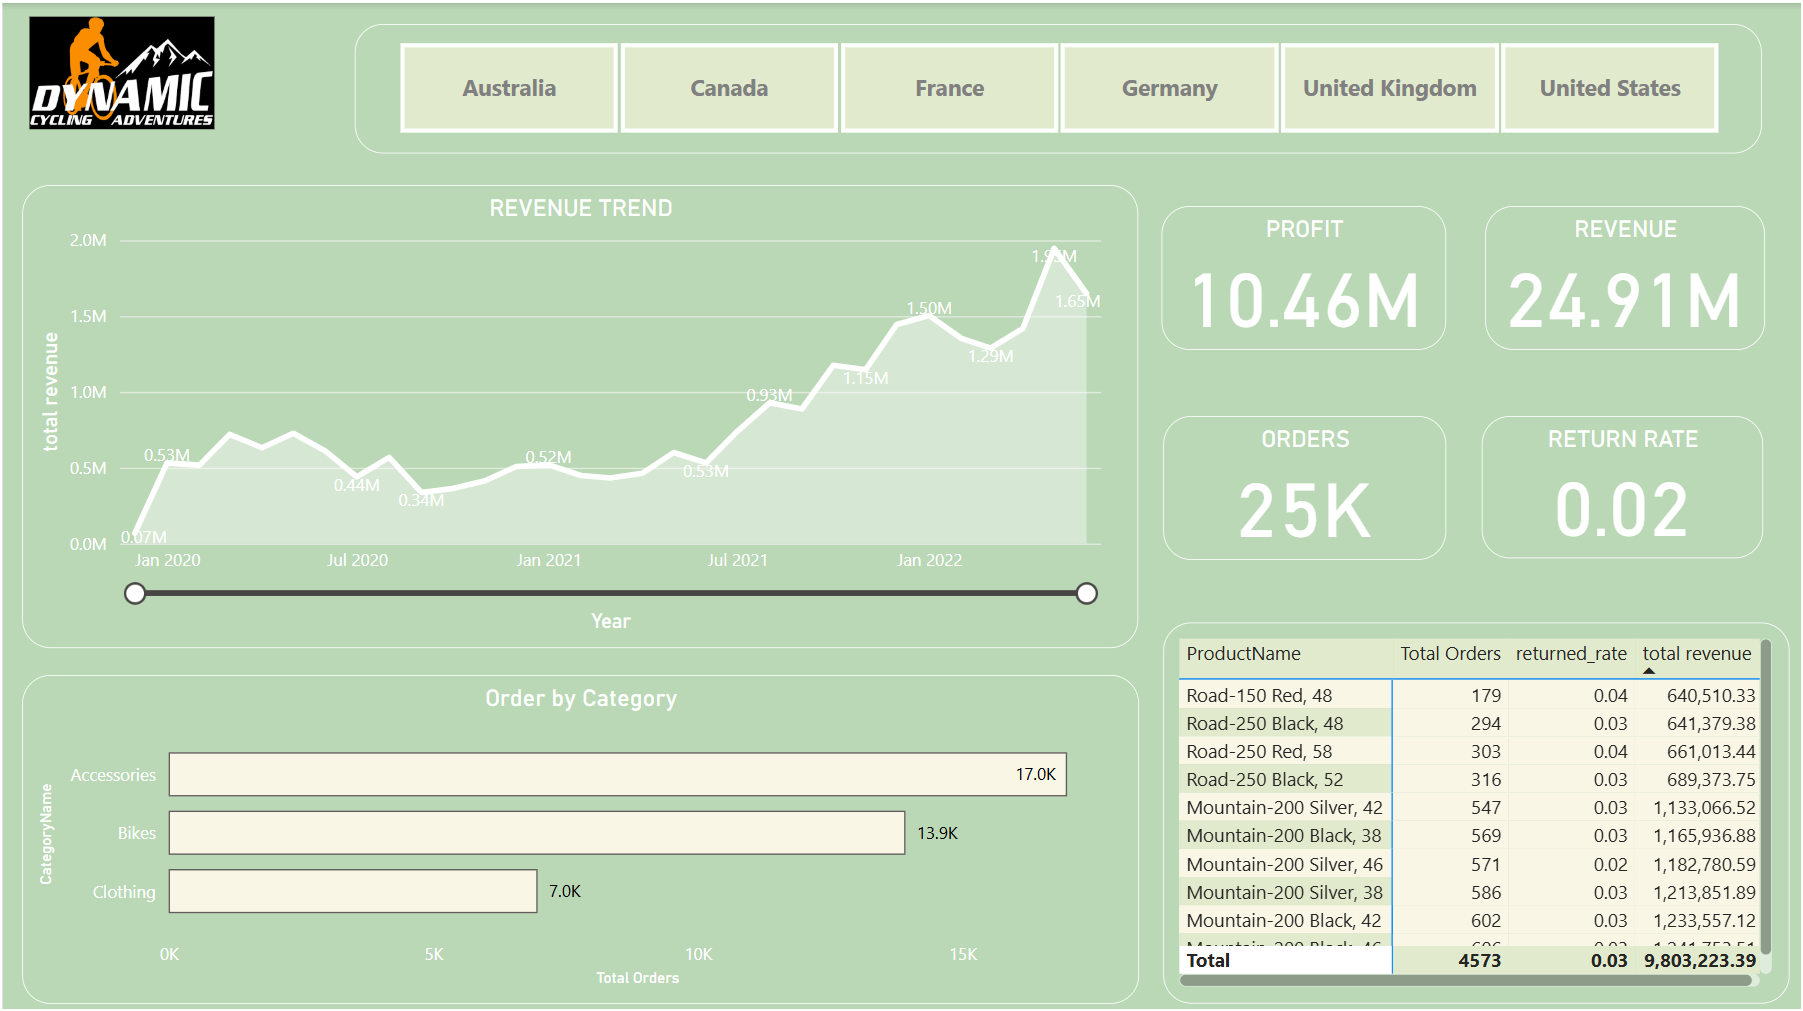

This screenshot's page, from the dashboard's own definition file:
{"tool":"powerbi","page":{"name":"Dashboard","canvas":[1280,720],"ordinal":1},"visuals":[{"type":"card","title":"REVENUE","fields":{"Values":["Measure.total revenue"]},"box":[1052.9,144.7,198.8,102.4],"z":0},{"type":"lineChart","title":"REVENUE TREND","fields":{"Category":["Calendar Lookup.Start of Month.Variation.Date Hierarchy.Year","Calendar Lookup.Start of Month.Variation.Date Hierarchy.Quarter","Calendar Lookup.Start of Month.Variation.Date Hierarchy.Month","Calendar Lookup.Start of Month.Variation.Date Hierarchy.Day"],"Y":["Measure.total revenue"]},"box":[14.1,129.4,792.9,329.4],"z":1000},{"type":"card","title":"PROFIT","fields":{"Values":["Measure.total profit"]},"box":[823.5,144.7,202.4,102.4],"z":2000},{"type":"card","title":"ORDERS","fields":{"Values":["Measure.Total Orders"]},"box":[824.7,294.1,201.2,102.4],"z":3000},{"type":"card","title":"RETURN RATE","fields":{"Values":["Measure.returned_rate"]},"box":[1050.6,294.1,200,101.2],"z":4000},{"type":"pivotTable","fields":{"Rows":["Product Lookup.ProductName"],"Values":["Measure.Total Orders","Measure.returned_rate","Measure.total revenue"]},"box":[824.6,440.3,445.3,271.1],"z":5000},{"type":"clusteredBarChart","title":"Order by Category","fields":{"Category":["Product Categories Lookup.CategoryName"],"Y":["Measure.Total Orders"]},"box":[13.7,477.6,793.5,233.8],"z":6000},{"type":"slicer","fields":{"Values":["Territory Lookup.Country"]},"box":[250.6,15.3,1000,91.8],"z":7000},{"type":"image","box":[13.7,0,141.8,99.5],"z":8000}]}

Visuals, with their boxes in screenshot pixels (x1, y1, x2, y2), scaled from the page's 1280x720 canvas onto the 1803x1011 screenshot:
"REVENUE" card: 1483 203 1763 347
"REVENUE TREND" lineChart: 20 182 1137 644
"PROFIT" card: 1160 203 1445 347
"ORDERS" card: 1162 413 1445 557
"RETURN RATE" card: 1480 413 1762 555
pivotTable - Product Lookup.ProductName x Measure.Total Orders: 1162 618 1789 999
"Order by Category" clusteredBarChart: 19 671 1137 999
slicer - Territory Lookup.Country: 353 21 1762 150
image: 19 0 219 140
